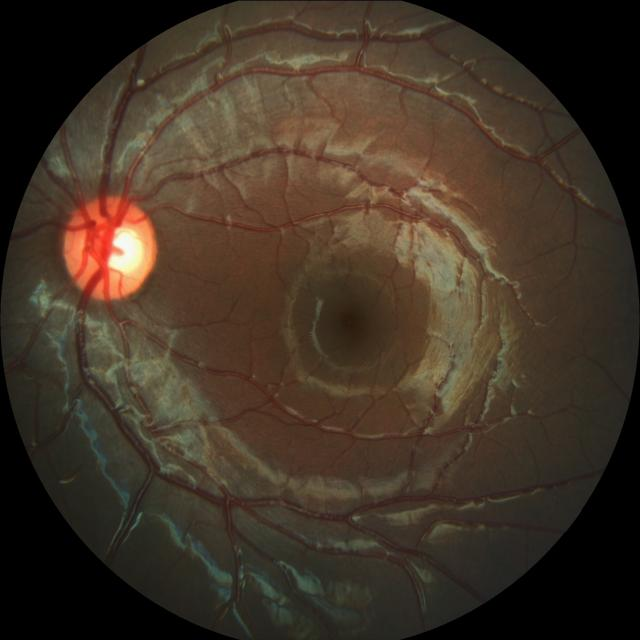OC: (88, 220, 146, 281)
OD: (60, 194, 154, 300)
